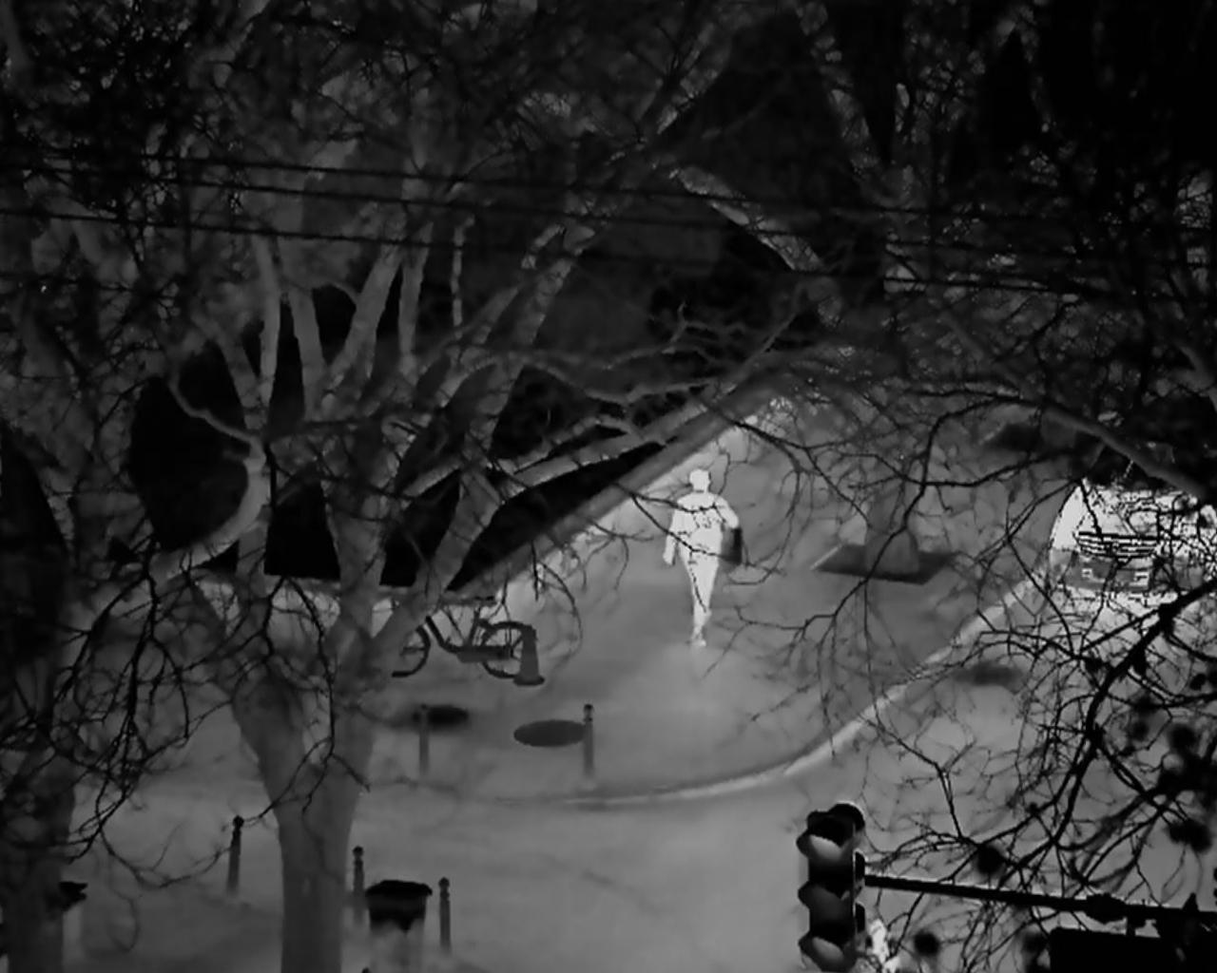person: (661, 467, 740, 649)
